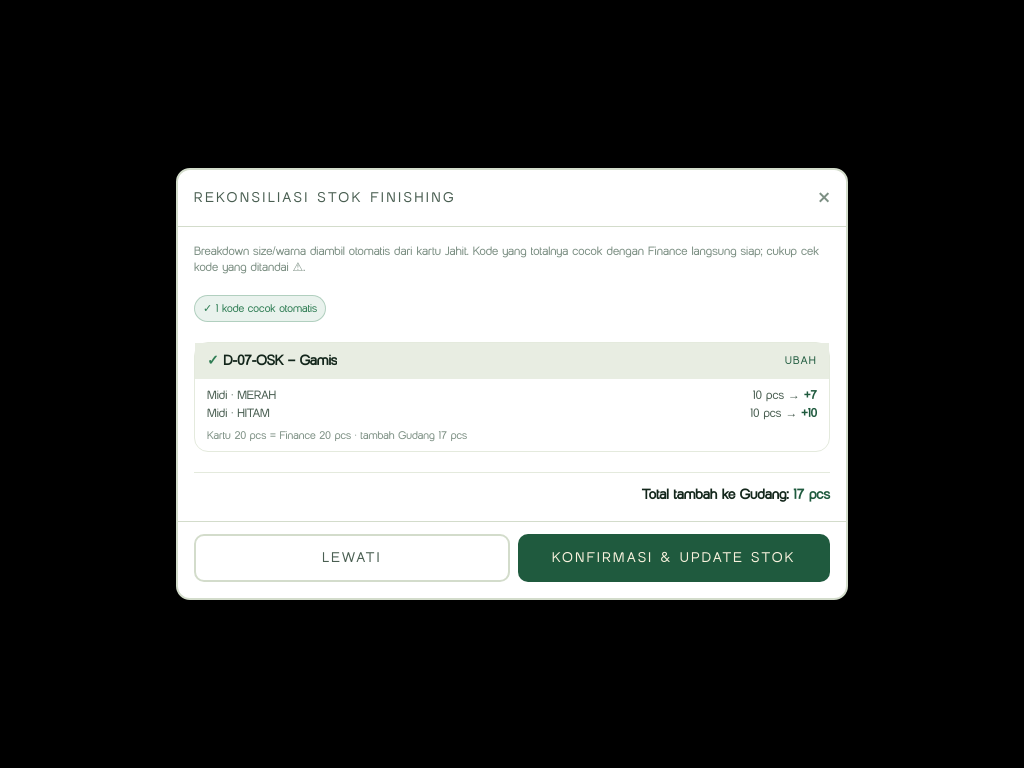
it: FinishingStockModal (permintaan Denny 2026-09) › Qty Kartu — placeholder bukan default 0 (Task 3) › baris AUTO (dari kartu asli) tetap menampilkan angka kartu sungguhan sbg value, bukan kosong
Expected: the text "✓ D-07-OSK — Gamis" is shown, [207,350,337,370]
Click the button "Ubah". click: {"x": 801, "y": 361}
box: [785,352,817,369]
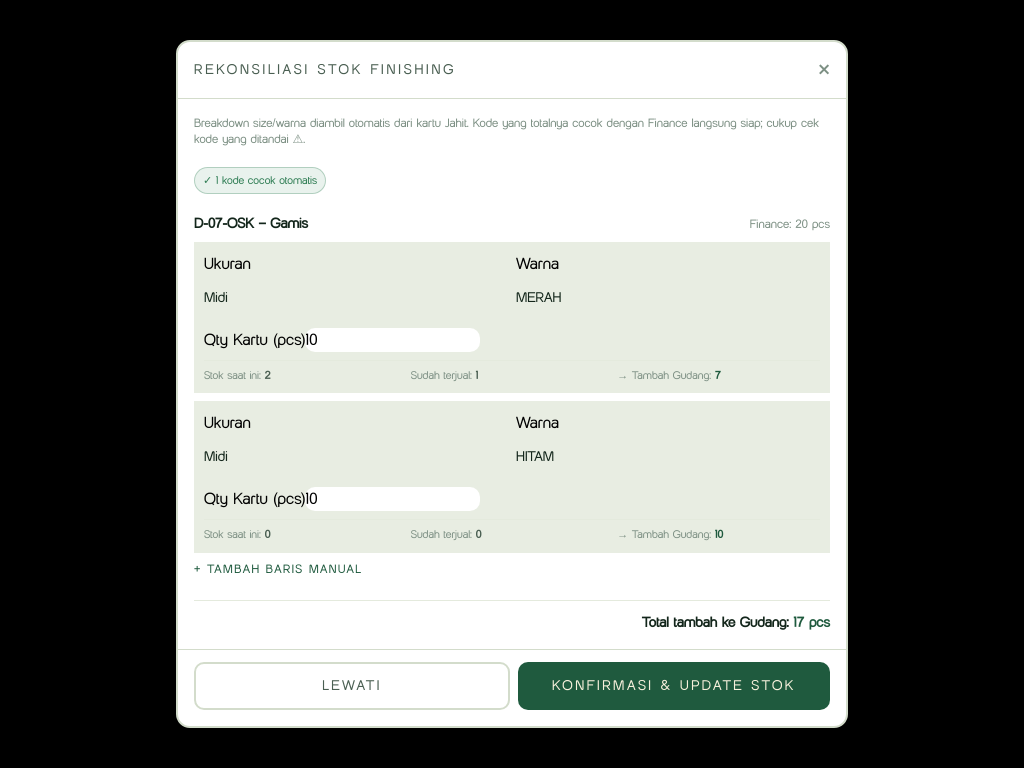
Now the number field below "MERAH" holds "10", box [305,328,480,352]
Now the number field below "HITAM" holds "10", box [305,487,480,511]
